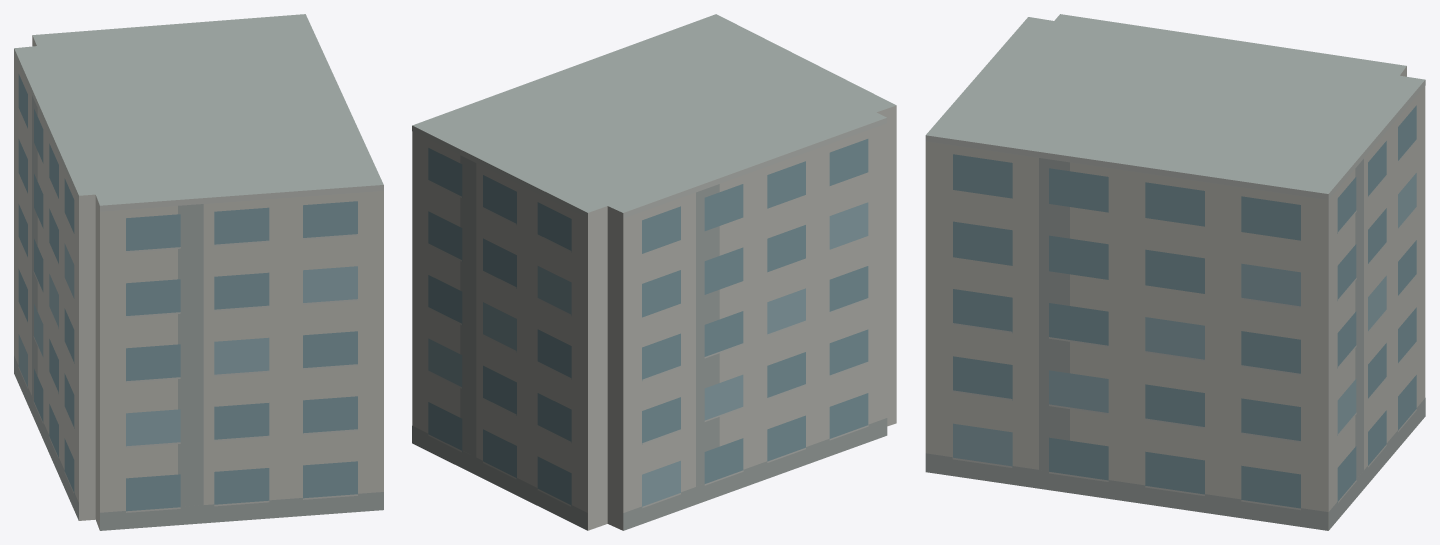
Rendered from survey-upis-32888336.glb.
3 renders of one model, left to right at view 1: azimuth 30°, elevation 25°; view 2: azimuth 150°, elevation 25°; view 3: azimuth 270°, elevation 25°, orthographic. The views are drawn at different scales.
Visible parts, largest first — view 1: survey-upis-32888336.tmp; view 2: survey-upis-32888336.tmp; view 3: survey-upis-32888336.tmp.
Part boxes in pixels (x1,y1,x2,y2): survey-upis-32888336.tmp: (14, 14, 383, 530); survey-upis-32888336.tmp: (412, 14, 896, 530); survey-upis-32888336.tmp: (925, 14, 1425, 530).
Size of the model in its own units: 15.54 by 13.55 by 18.24.
